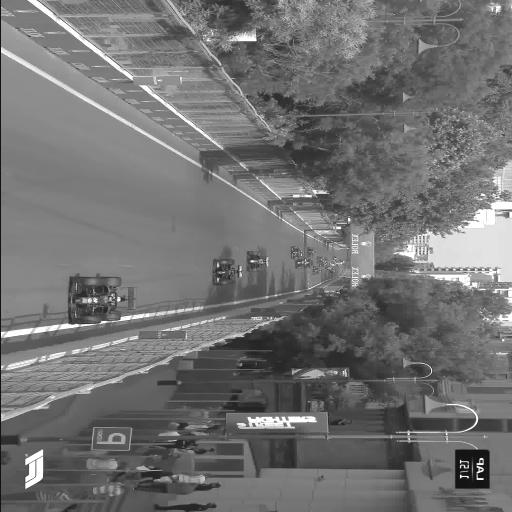f1_car: (69, 277, 136, 324), (213, 259, 242, 285), (247, 251, 268, 272), (291, 246, 303, 259), (294, 259, 307, 269), (304, 258, 313, 268), (307, 248, 316, 257), (312, 267, 321, 275)
